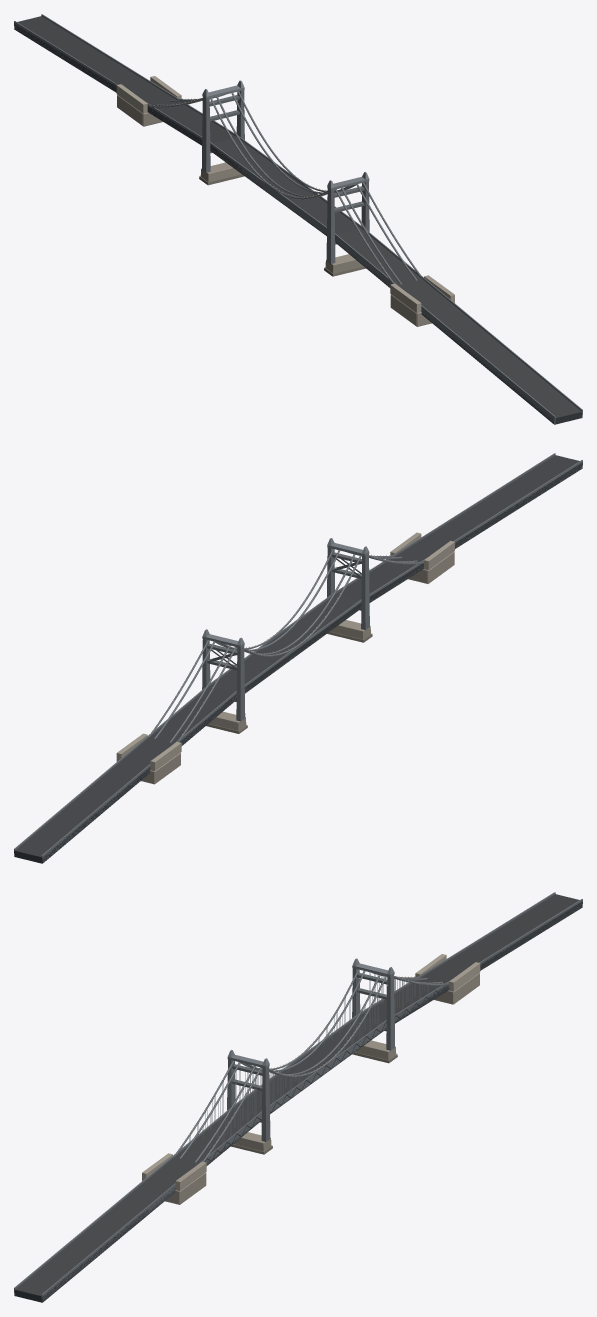
3 views of the same model, one above another, from view 1: azimuth 30°, elevation 25°; view 2: azimuth 150°, elevation 25°; view 3: azimuth 330°, elevation 25° (orthographic).
Parts seen in each view (by area): view 1: manhattan-bridge-lod0; view 2: manhattan-bridge-lod0; view 3: manhattan-bridge-lod0.
Part boxes in pixels (<box>): manhattan-bridge-lod0: <box>14,14,582,424</box>; manhattan-bridge-lod0: <box>14,453,582,863</box>; manhattan-bridge-lod0: <box>14,892,582,1302</box>.
Size of the model in its own units: 83.5 by 183 by 1954.
